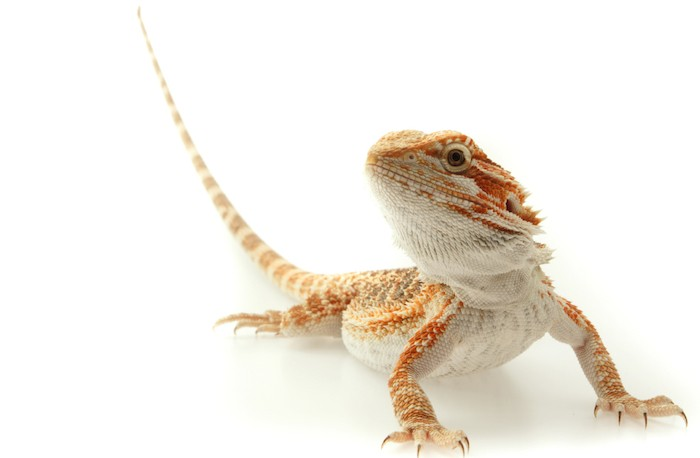bearded: (134, 5, 689, 458)
